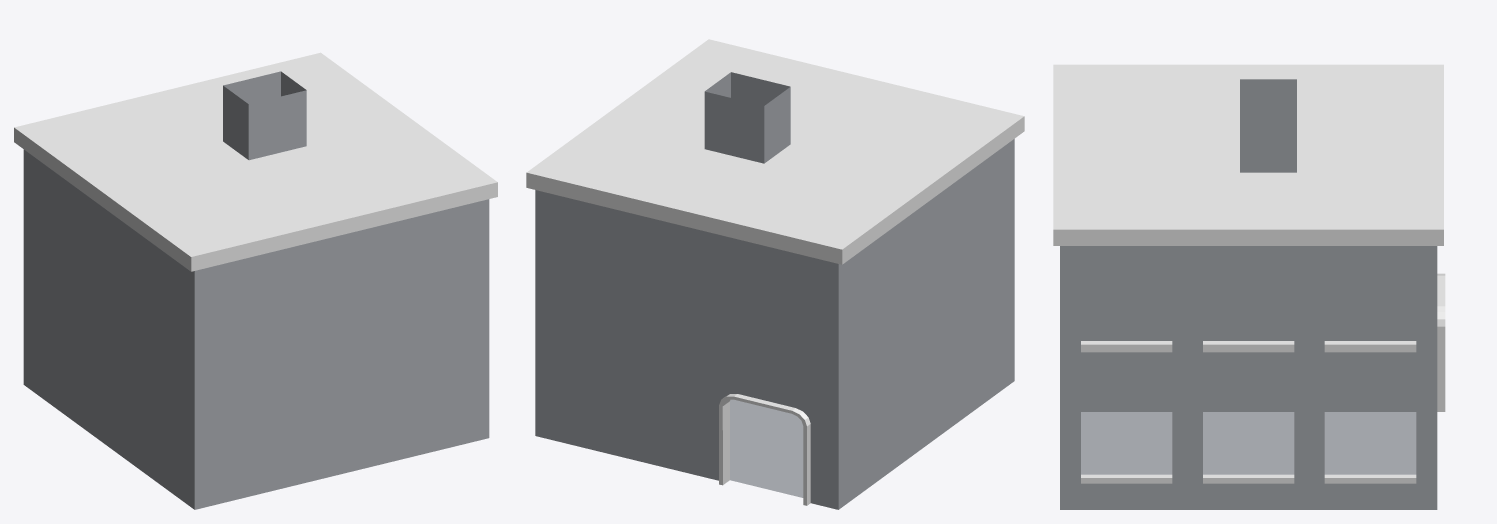
The model's file is Bld_O_high_L3_B.fbx.
3 renders of one model, left to right at view 1: azimuth 30°, elevation 25°; view 2: azimuth 150°, elevation 25°; view 3: azimuth 270°, elevation 25°, orthographic. The views are drawn at different scales.
Visible parts, largest first — view 1: Bld_O_high_L3_B_LOD0; view 2: Bld_O_high_L3_B_LOD0; view 3: Bld_O_high_L3_B_LOD0.
Part boxes in pixels (x1,y1,x2,y2): Bld_O_high_L3_B_LOD0: (14,52,497,509); Bld_O_high_L3_B_LOD0: (526,39,1024,509); Bld_O_high_L3_B_LOD0: (1053,64,1445,509).
Size of what is drawn, in the model's own units: 1380 by 1650 by 1512.
Materials: 1 (1 with a texture image).
